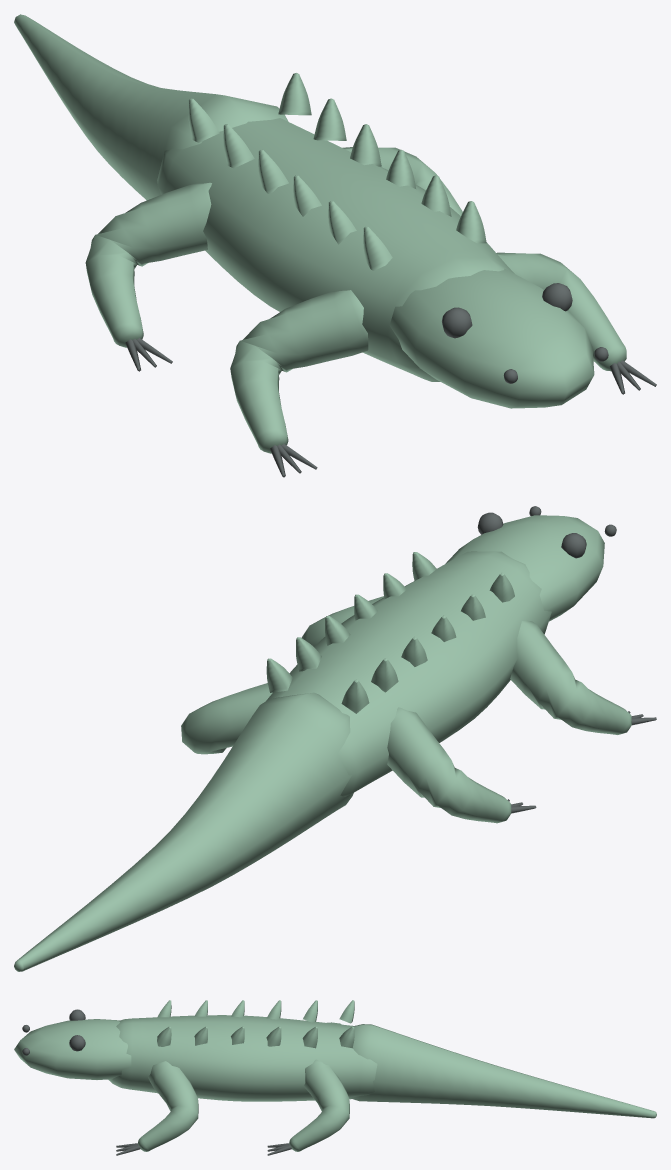
File: ca_sau.glb
3 renders of one model, top to bottom at view 1: azimuth 30°, elevation 25°; view 2: azimuth 150°, elevation 25°; view 3: azimuth 270°, elevation 25°, orthographic. The views are drawn at different scales.
Parts seen in each view (by area): view 1: saltwater-crocodile; view 2: saltwater-crocodile; view 3: saltwater-crocodile.
Part boxes in pixels (box(x1,y1,x2,y2)): saltwater-crocodile: box(14, 14, 656, 477); saltwater-crocodile: box(14, 506, 656, 971); saltwater-crocodile: box(14, 1000, 656, 1155).
Size of the model in its own units: 1.39 by 0.6428 by 3.95.
